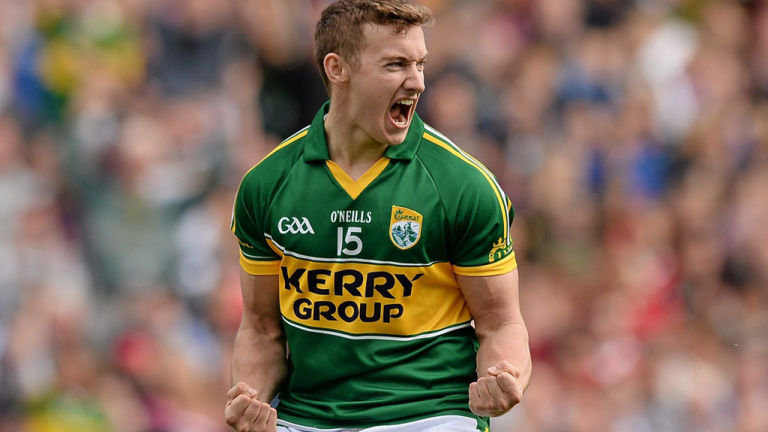player: (215, 4, 528, 416)
